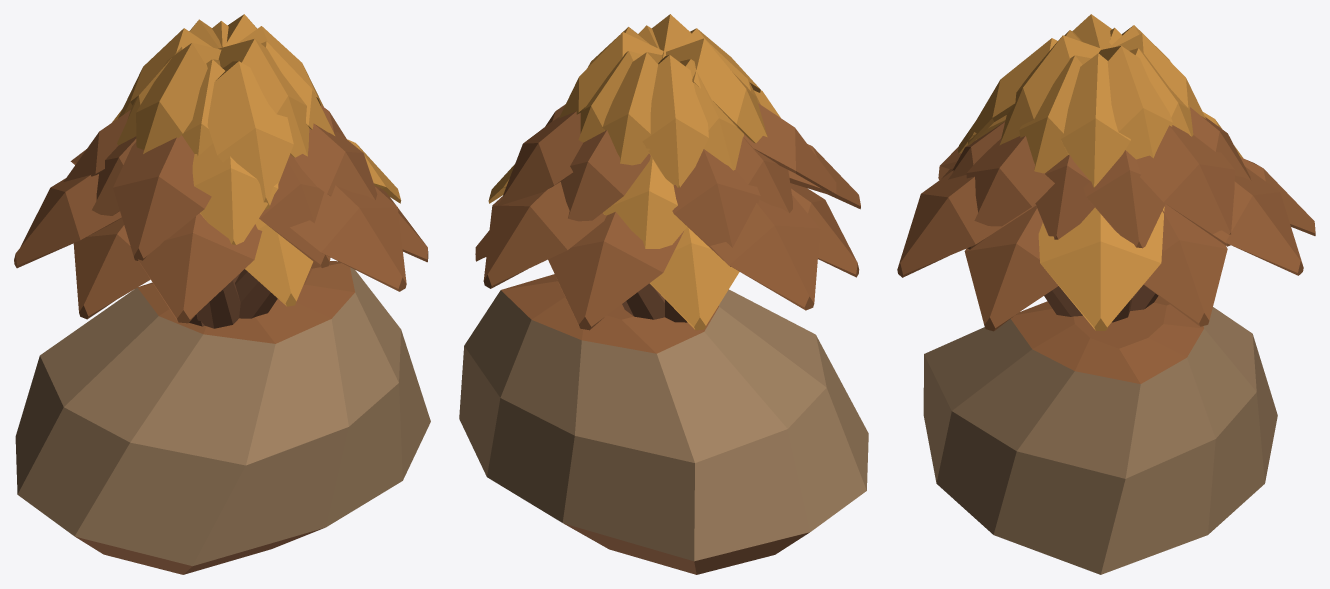
The model's file is orbital-flora.glb.
3 views of the same model, side by side, from view 1: azimuth 30°, elevation 25°; view 2: azimuth 150°, elevation 25°; view 3: azimuth 270°, elevation 25° (orthographic).
Parts seen in each view (by area): view 1: stone, feature; view 2: stone, feature; view 3: feature, stone.
Part boxes in pixels (bbox=[...]): stone: bbox=[15, 261, 430, 574]; feature: bbox=[14, 14, 428, 328]; stone: bbox=[459, 274, 868, 574]; feature: bbox=[475, 14, 860, 330]; feature: bbox=[897, 14, 1315, 331]; stone: bbox=[923, 296, 1277, 574].
Bounding box in the file's own units: 1.94 × 2.31 × 1.82.
